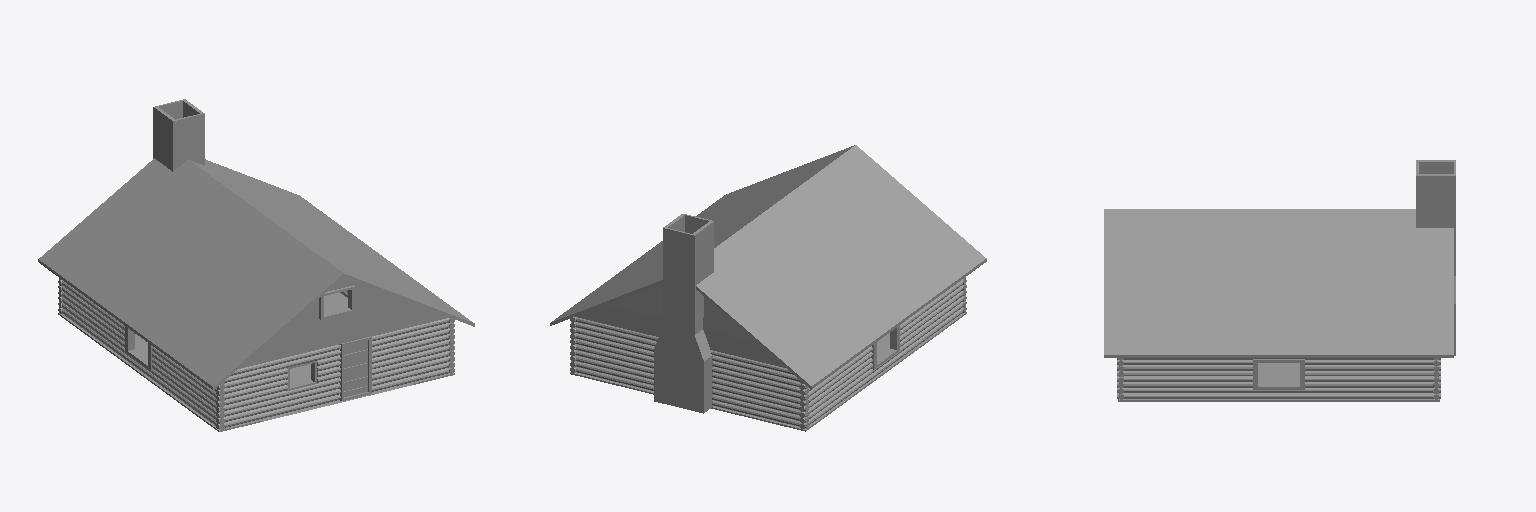
The model's file is new_house.obj.
3 renders of one model, left to right at view 1: azimuth 30°, elevation 25°; view 2: azimuth 150°, elevation 25°; view 3: azimuth 270°, elevation 25°, orthographic.
Size of the model in its own units: 6.37 by 4.12 by 7.44.